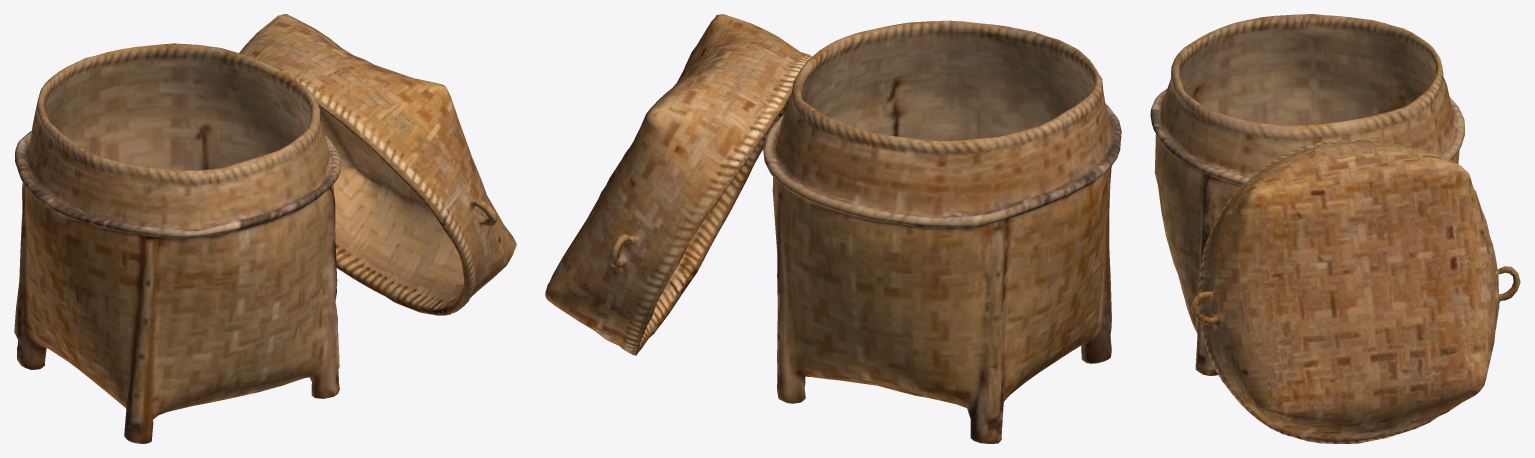
File: wicker_basket_02.glb
3 renders of one model, left to right at view 1: azimuth 30°, elevation 25°; view 2: azimuth 150°, elevation 25°; view 3: azimuth 270°, elevation 25°, orthographic. The views are drawn at different scales.
Size of the model in its own units: 0.3469 by 0.2005 by 0.2544.
1 material, 1 textured.
